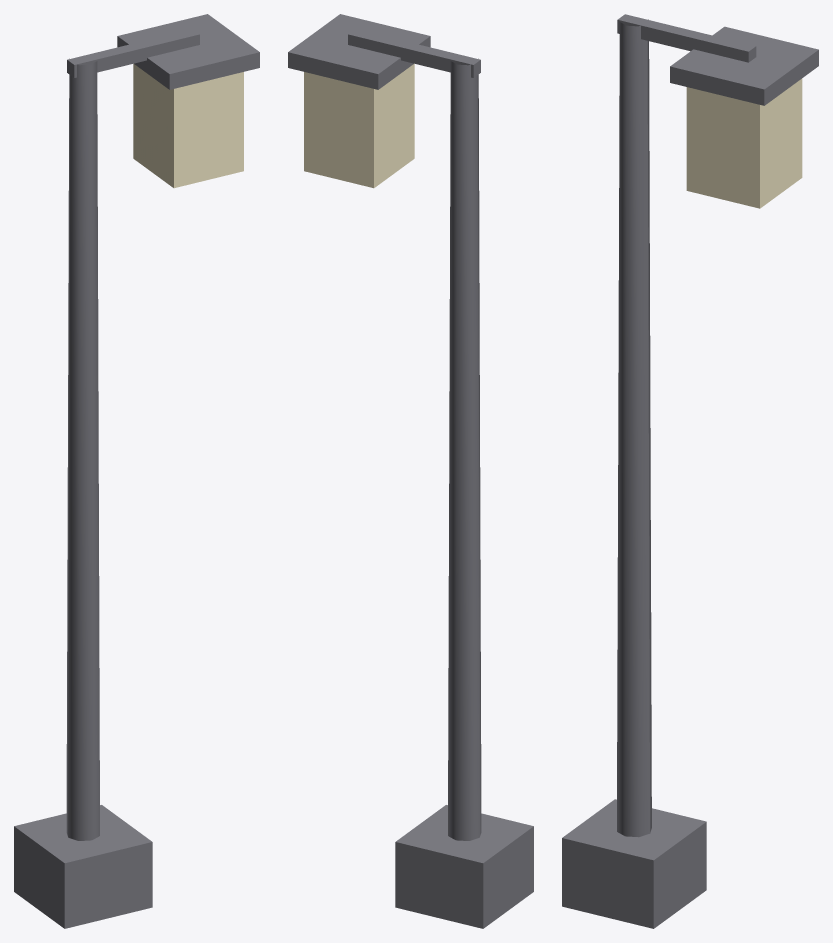
The model's file is lamppost.glb.
The picture shows the model from 3 angles, left to right: view 1: azimuth 30°, elevation 25°; view 2: azimuth 150°, elevation 25°; view 3: azimuth 330°, elevation 25°; orthographic projection. The views are drawn at different scales.
Size of the model in its own units: 0.775 by 3.2 by 0.36.
